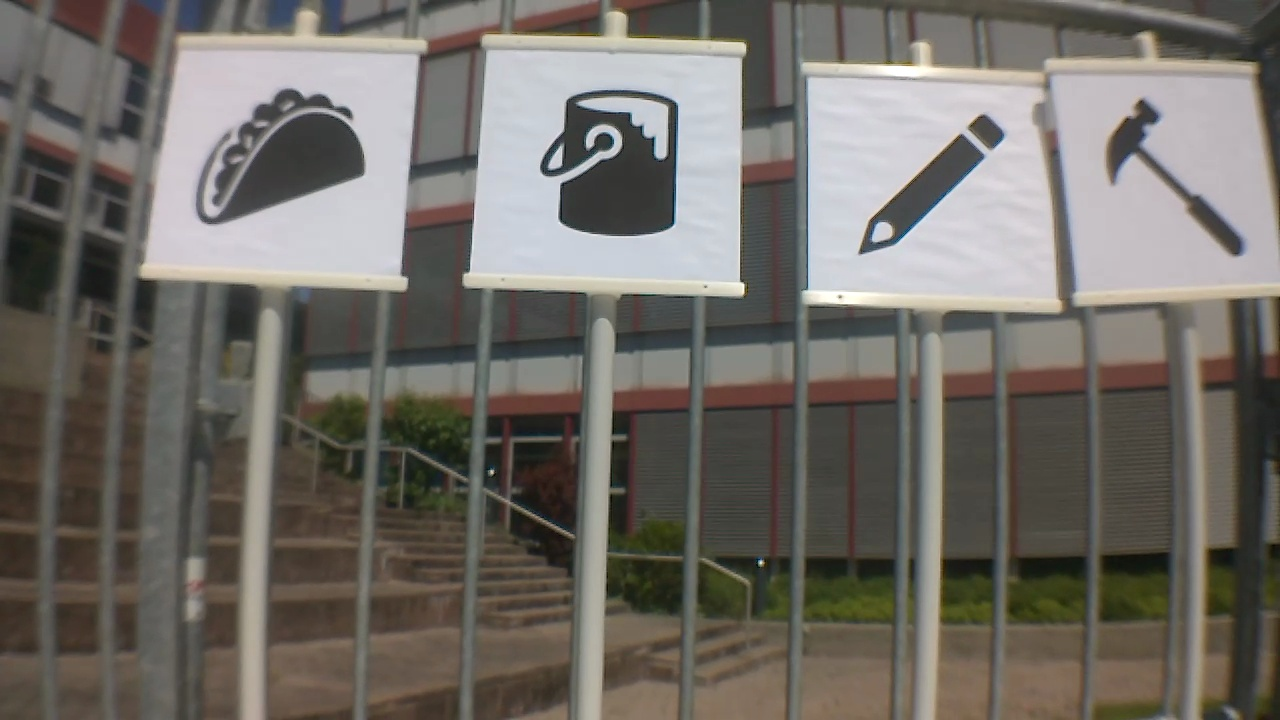bucket: (533, 87, 681, 242)
hammer: (1100, 97, 1260, 258)
pencil: (855, 110, 1009, 256)
taco: (183, 86, 374, 229)
